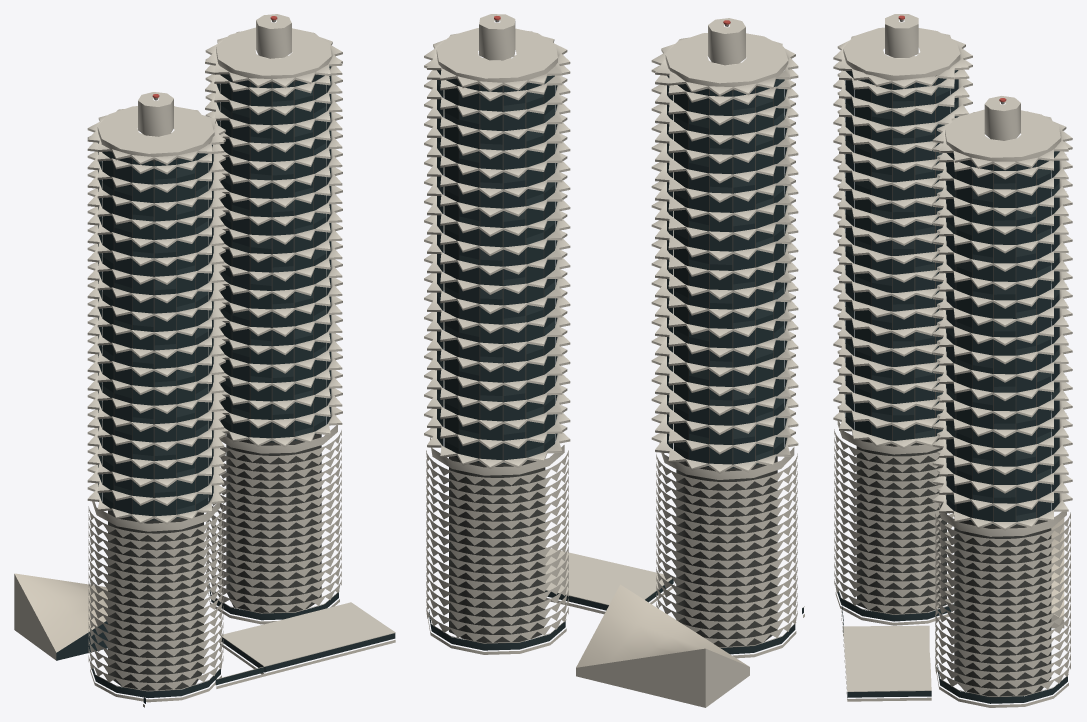
Rendered from marina-city-far.glb.
3 views of the same model, side by side, from view 1: azimuth 30°, elevation 25°; view 2: azimuth 150°, elevation 25°; view 3: azimuth 270°, elevation 25° (orthographic). The views are drawn at different scales.
Visible parts, largest first — view 1: marina-city-0-concrete, marina-city-0-glass, marina-city-0-concreteDark, marina-city-0-glow, marina-city-0-roof; view 2: marina-city-0-concrete, marina-city-0-glass, marina-city-0-concreteDark, marina-city-0-glow, marina-city-0-roof; view 3: marina-city-0-concrete, marina-city-0-glass, marina-city-0-concreteDark, marina-city-0-glow, marina-city-0-roof.
Part boxes in pixels (x1,y1,x2,y2): marina-city-0-concrete: (14,14,395,707); marina-city-0-glass: (56,74,395,703); marina-city-0-concreteDark: (108,74,321,691); marina-city-0-glow: (98,66,331,518); marina-city-0-roof: (14,573,107,652); marina-city-0-concrete: (424,14,804,707); marina-city-0-glass: (429,70,803,654); marina-city-0-concreteDark: (449,78,777,647); marina-city-0-glow: (437,75,787,464); marina-city-0-roof: (576,584,748,667); marina-city-0-concrete: (833,14,1072,707); marina-city-0-glass: (836,71,1067,703); marina-city-0-concreteDark: (856,75,1051,697); marina-city-0-glow: (844,70,1059,524); marina-city-0-roof: (1051,515,1064,619).
Size of the model in its own units: 93.59 by 179 by 66.89.
